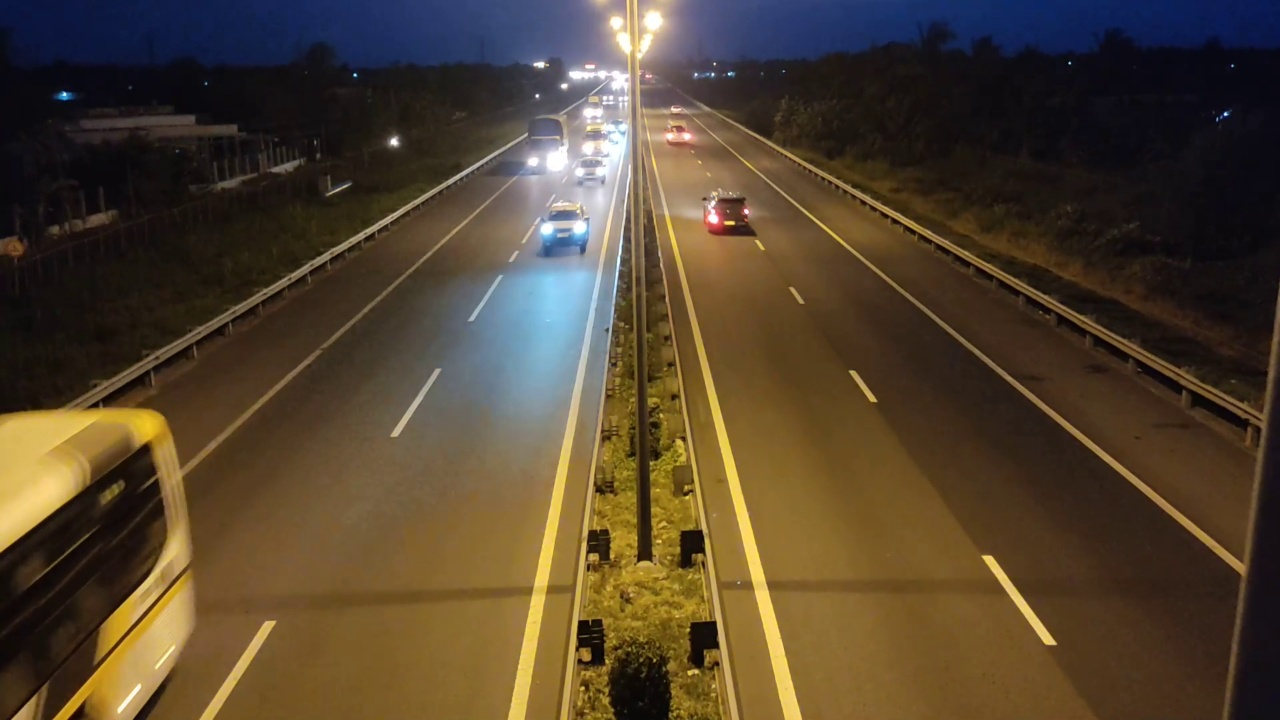bus: (1, 408, 199, 714)
car: (537, 198, 591, 257), (702, 189, 752, 235), (574, 156, 608, 186), (663, 123, 695, 148)
